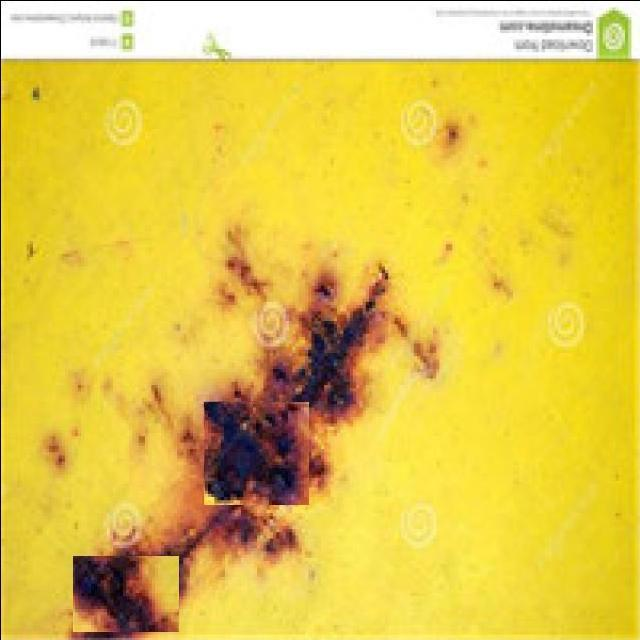Pitting Corrosion: (71, 267, 388, 639)
